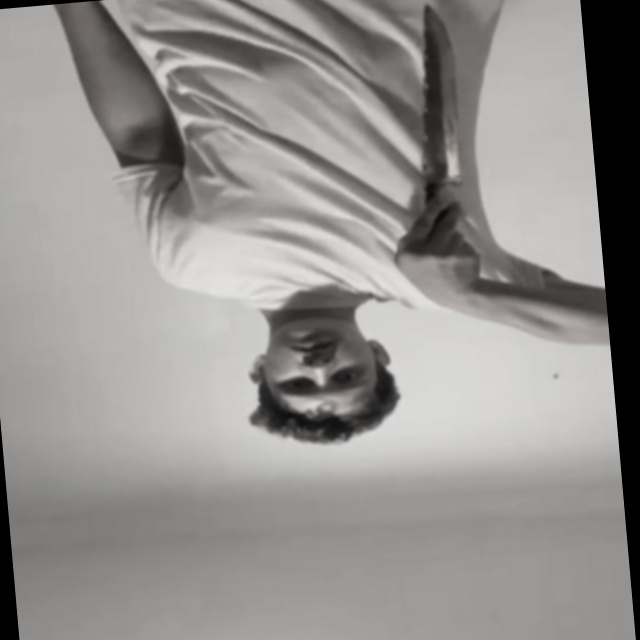Sharp-Object: (404, 0, 475, 197)
